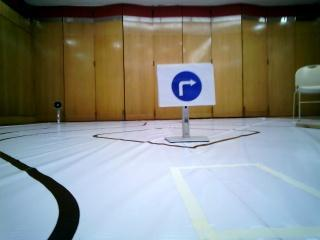right: (160, 64, 212, 105)
